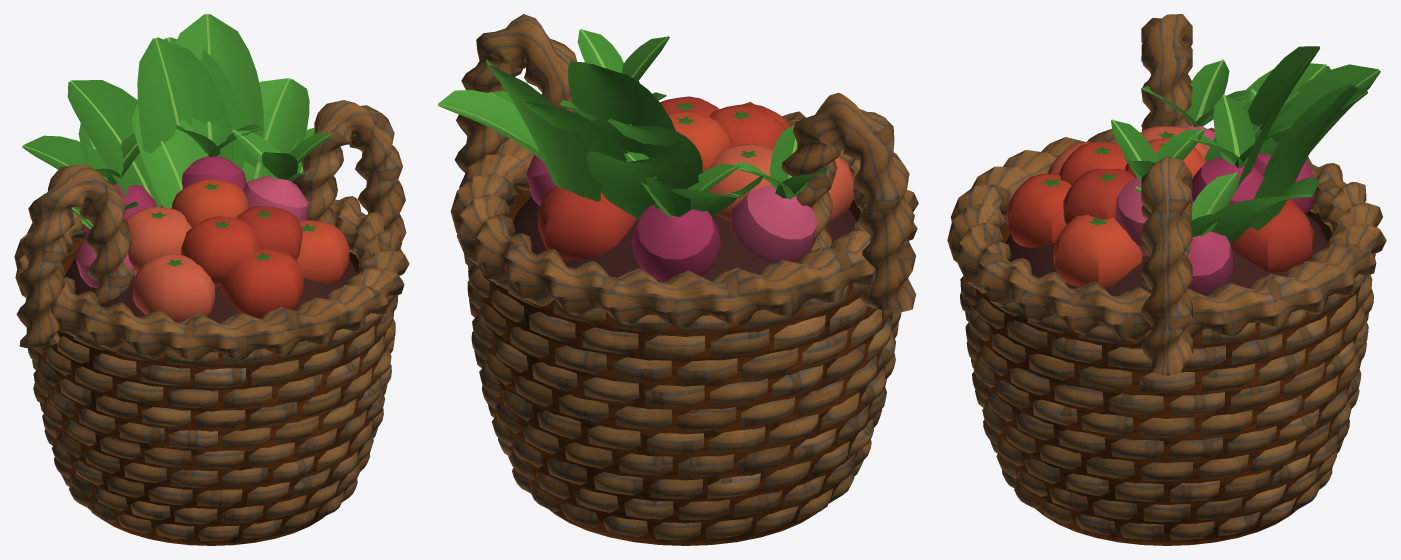
Rendered from basket.glb.
The picture shows the model from 3 angles, left to right: view 1: azimuth 30°, elevation 25°; view 2: azimuth 150°, elevation 25°; view 3: azimuth 270°, elevation 25°; orthographic projection. The views are drawn at different scales.
Visible parts, largest first — view 1: basket; view 2: basket; view 3: basket.
Part boxes in pixels (x1,y1,x2,y2): basket: [14, 14, 409, 545]; basket: [438, 14, 918, 545]; basket: [947, 14, 1386, 545].
Bounding box in the file's own units: 0.6116 × 0.6181 × 0.5461.
21 materials, 8 textured.
